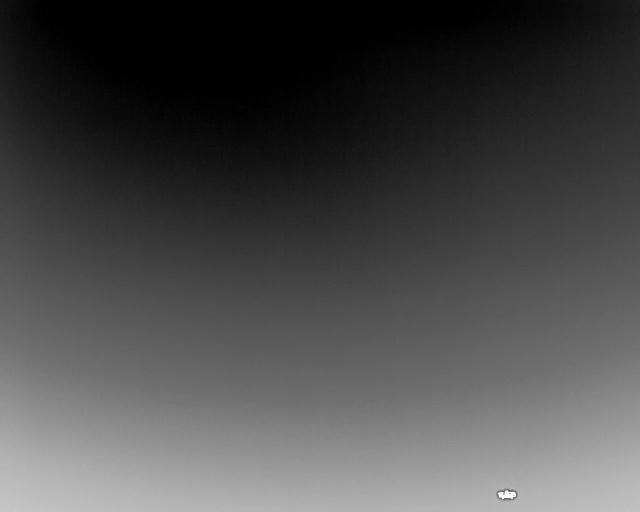fpv-drone: (496, 488, 517, 500)
